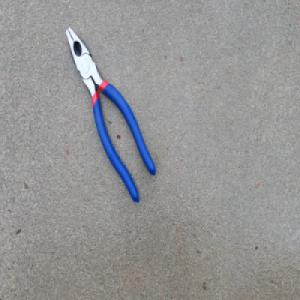Pliers: (66, 23, 157, 203)
